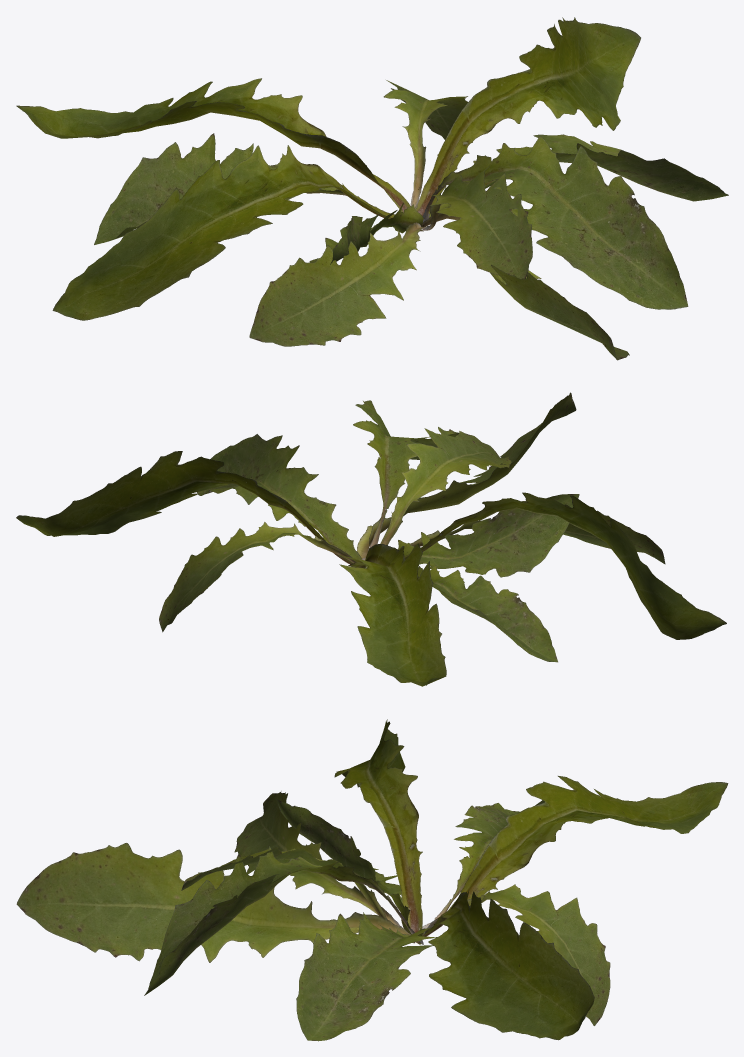
Rendered from dandelion_01_01.glb.
3 renders of one model, top to bottom at view 1: azimuth 30°, elevation 25°; view 2: azimuth 150°, elevation 25°; view 3: azimuth 270°, elevation 25°, orthographic. The views are drawn at different scales.
Visible parts, largest first — view 1: dandelion_01; view 2: dandelion_01; view 3: dandelion_01.
Boxes of the visible parts, x1,y1,x2,y2 form: dandelion_01: [16, 17, 728, 360]; dandelion_01: [16, 392, 726, 686]; dandelion_01: [16, 719, 728, 1041].
Bounding box in the file's own units: 0.2139 × 0.0475 × 0.2053.
1 material, 1 textured.
